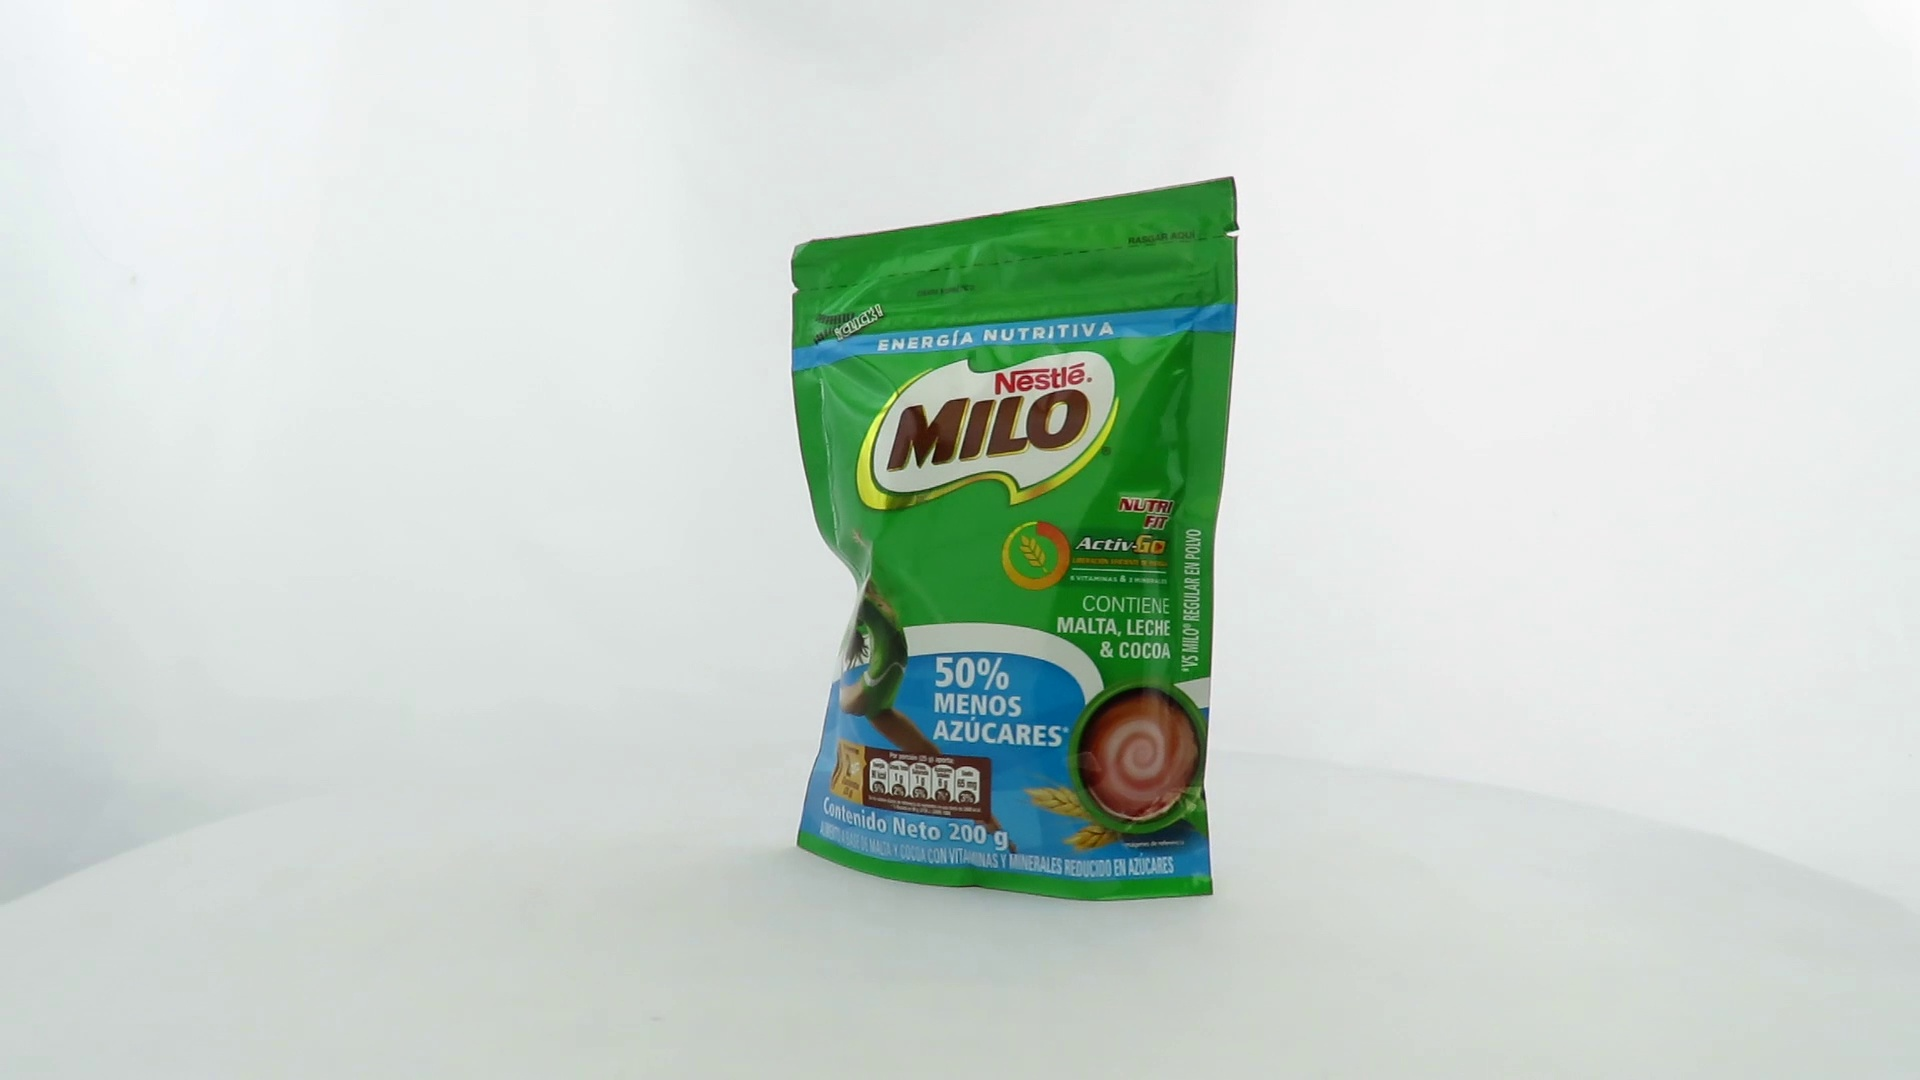COL0170205DYP20000: (785, 171, 1246, 909)
